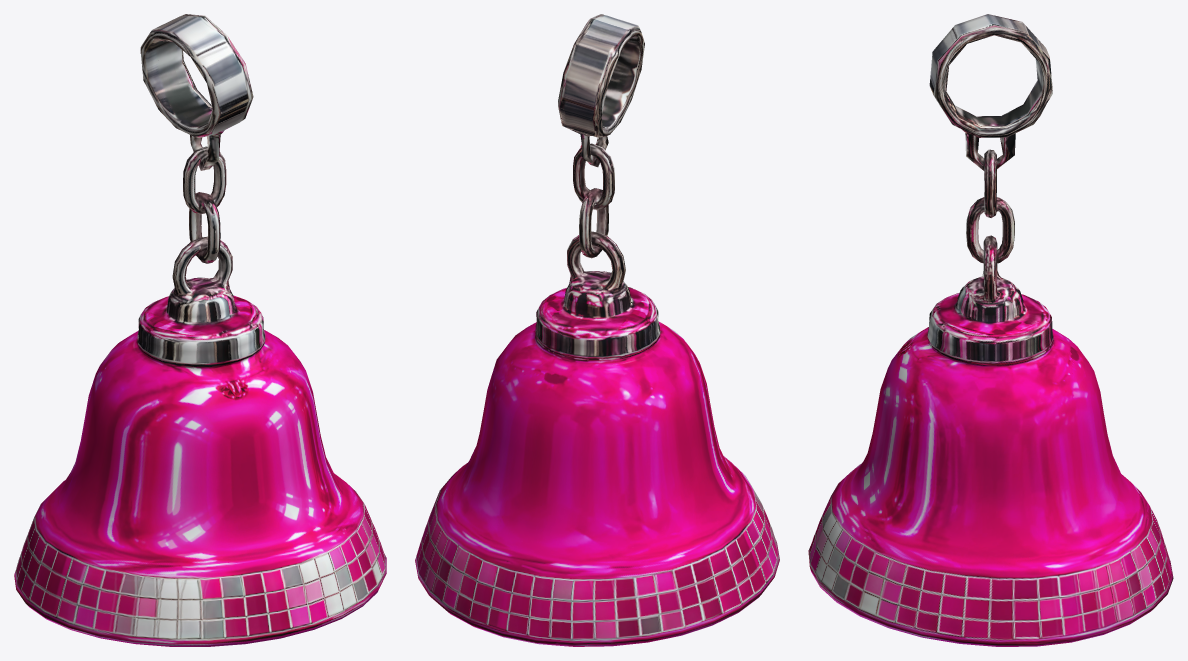
Rendered from tripo_convert_eabbeb59-4bb8-4921-9c90-1926ffb9df6d.fbx.
3 renders of one model, left to right at view 1: azimuth 30°, elevation 25°; view 2: azimuth 150°, elevation 25°; view 3: azimuth 270°, elevation 25°, orthographic. The views are drawn at different scales.
Parts seen in each view (by area): view 1: tripo_node_eabbeb59; view 2: tripo_node_eabbeb59; view 3: tripo_node_eabbeb59.
Part boxes in pixels (x1,y1,x2,y2): tripo_node_eabbeb59: [14, 14, 386, 646]; tripo_node_eabbeb59: [415, 14, 779, 646]; tripo_node_eabbeb59: [808, 14, 1173, 646].
Size of the model in its own units: 0.5588 by 0.9778 by 0.5541.
1 material, 1 textured.
